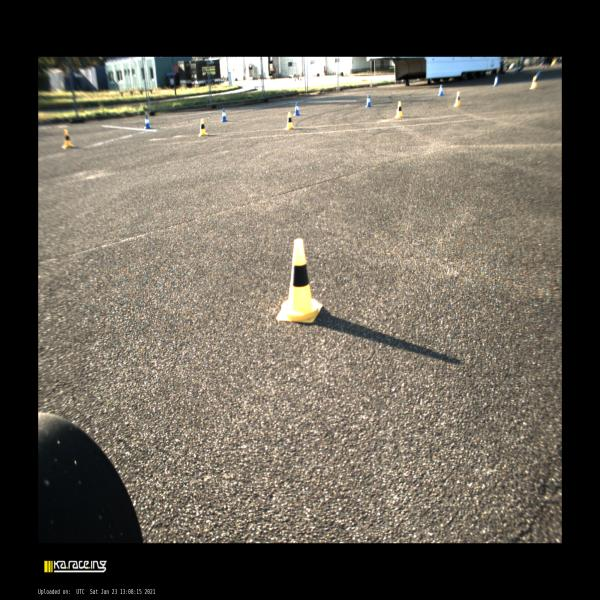blue_cone: (293, 102, 301, 117), (144, 114, 151, 130), (220, 108, 228, 122), (365, 94, 372, 108), (437, 84, 444, 96), (493, 76, 498, 86)
large_orange_cone: (294, 76, 296, 81), (300, 75, 301, 81)
yellow_cone: (276, 239, 322, 323), (61, 128, 74, 149), (394, 100, 404, 119), (198, 117, 208, 136), (285, 111, 294, 130), (453, 90, 461, 107), (530, 76, 537, 90)
